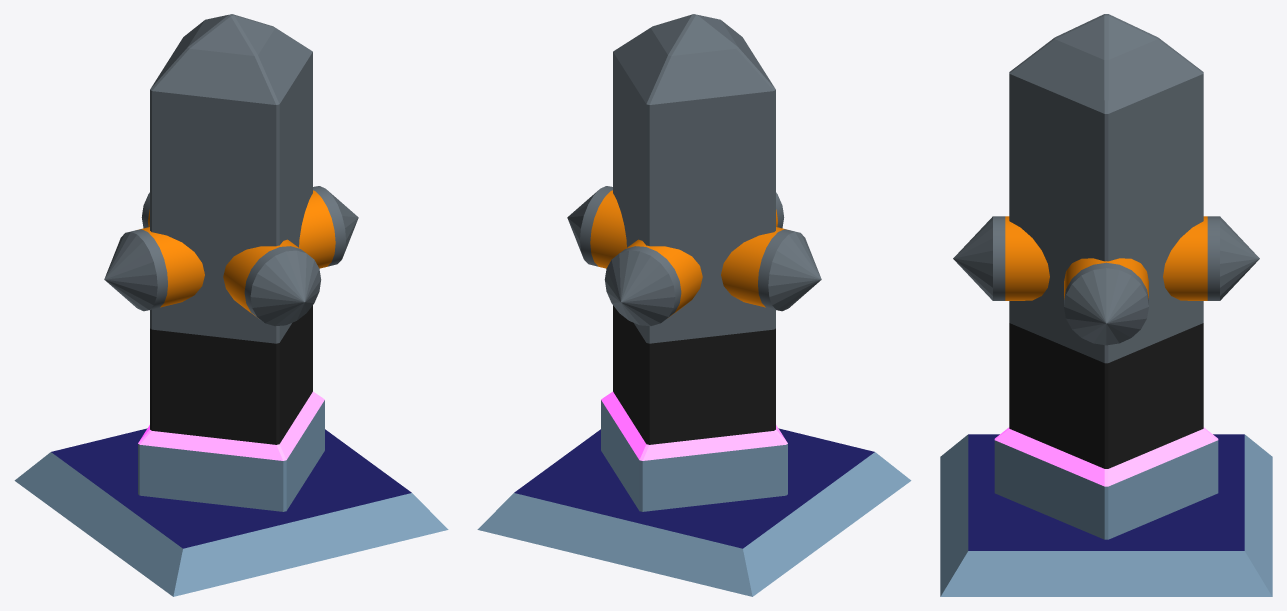
The model's file is Waall_7.fbx.
3 views of the same model, side by side, from view 1: azimuth 30°, elevation 25°; view 2: azimuth 150°, elevation 25°; view 3: azimuth 270°, elevation 25° (orthographic). The views are drawn at different scales.
Visible parts, largest first — view 1: waal_solid_7; view 2: waal_solid_7; view 3: waal_solid_7.
Boxes of the visible parts, box(x1,y1,x2,y2) form: waal_solid_7: box(14, 14, 448, 596); waal_solid_7: box(477, 14, 911, 596); waal_solid_7: box(940, 14, 1272, 596).
Bounding box in the file's own units: 39.36 × 66.97 × 39.36.
